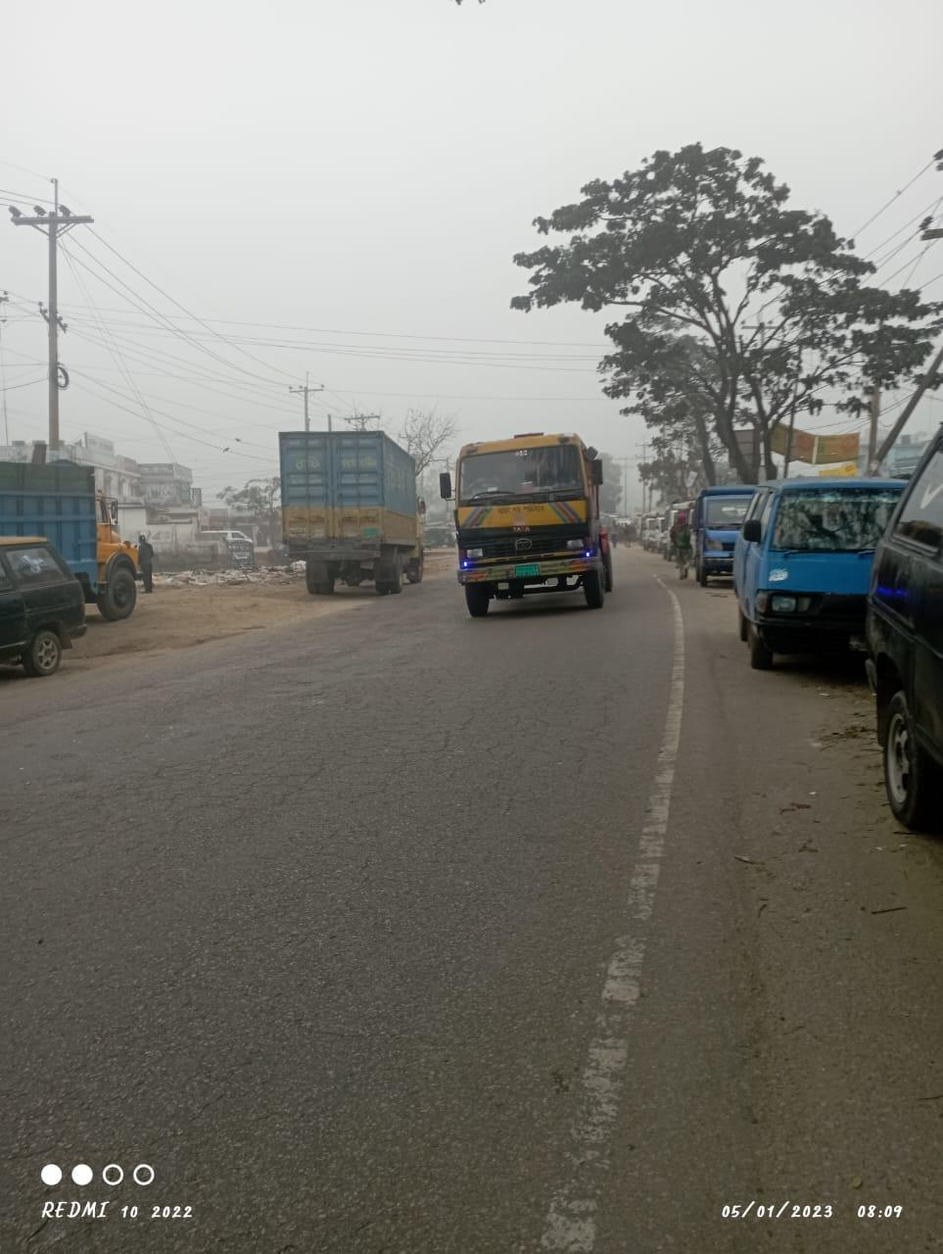Car: (727, 465, 913, 681), (1, 529, 115, 669)
Truck: (435, 427, 625, 618), (270, 416, 431, 603), (2, 446, 163, 614)
